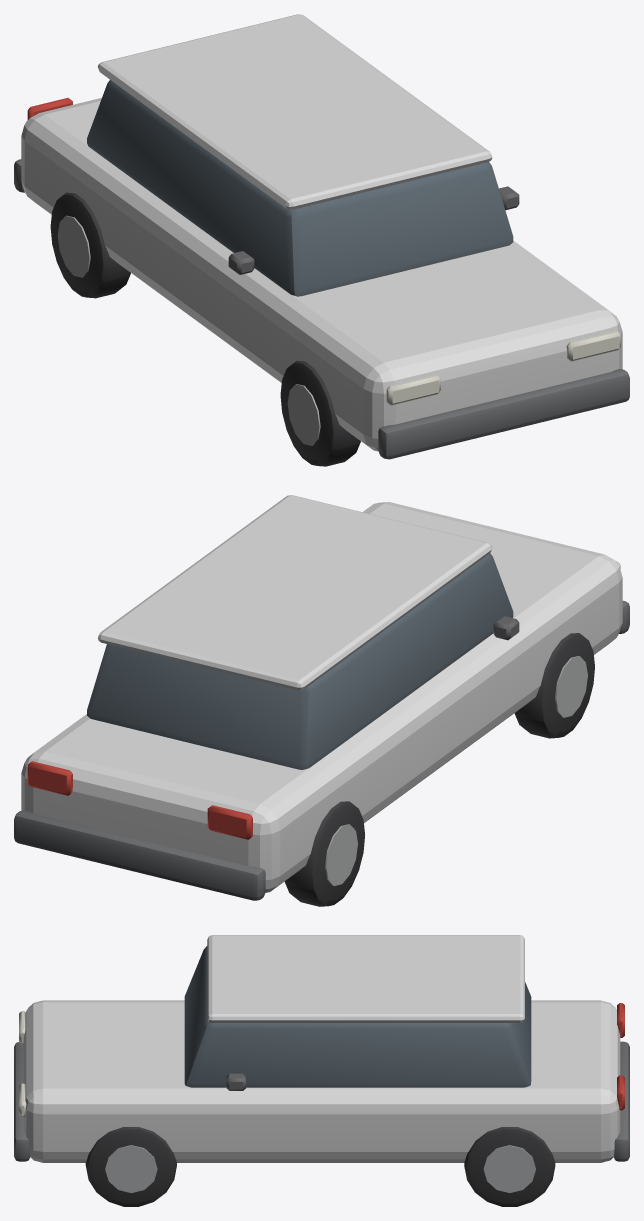
The picture shows the model from 3 angles, top to bottom: view 1: azimuth 30°, elevation 25°; view 2: azimuth 150°, elevation 25°; view 3: azimuth 270°, elevation 25°; orthographic projection. The views are drawn at different scales.
Parts seen in each view (by area): view 1: car_body, car_trim; view 2: car_body, car_trim; view 3: car_body, car_trim.
Boxes of the visible parts, x1,y1,x2,y2 form: car_body: (21,14,622,451); car_trim: (14,80,629,466); car_body: (21,495,622,892); car_trim: (14,553,629,906); car_body: (23,935,620,1162); car_trim: (14,946,629,1206).
Bounding box in the file's own units: 1.94 × 1.45 × 4.46.
